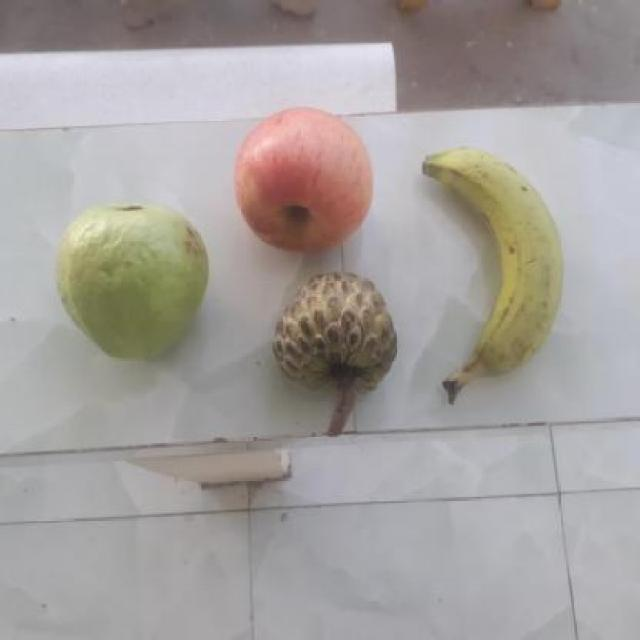apple: (228, 109, 374, 253)
banana: (422, 148, 560, 392)
guava: (52, 202, 203, 360)
sugar apple: (266, 272, 396, 406)
